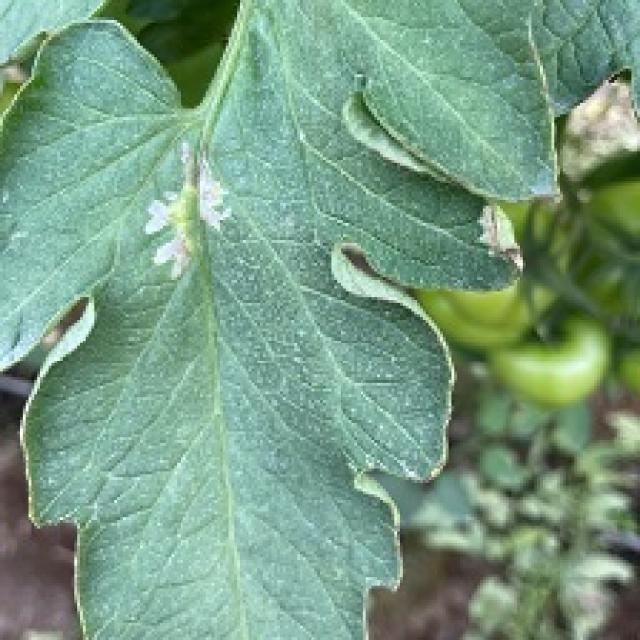Tuta absoluta: (123, 143, 250, 283)
